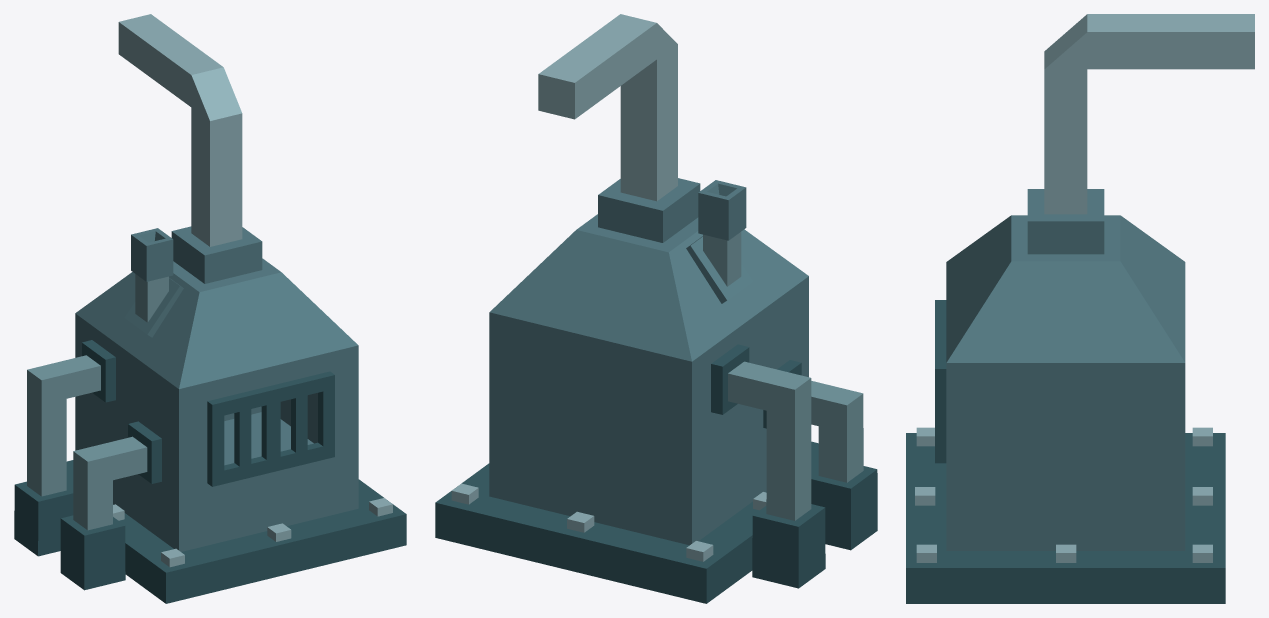
File: Alchemist Machine 01.FBX
3 views of the same model, side by side, from view 1: azimuth 30°, elevation 25°; view 2: azimuth 150°, elevation 25°; view 3: azimuth 270°, elevation 25° (orthographic). The views are drawn at different scales.
Parts seen in each view (by area): view 1: Alchemist Machine 01; view 2: Alchemist Machine 01; view 3: Alchemist Machine 01.
Boxes of the visible parts, left/top/right/bottom form: Alchemist Machine 01: left=14, top=14, right=406, bottom=603; Alchemist Machine 01: left=435, top=14, right=877, bottom=603; Alchemist Machine 01: left=906, top=14, right=1254, bottom=603.
Size of the model in its own units: 169 by 250 by 154.
